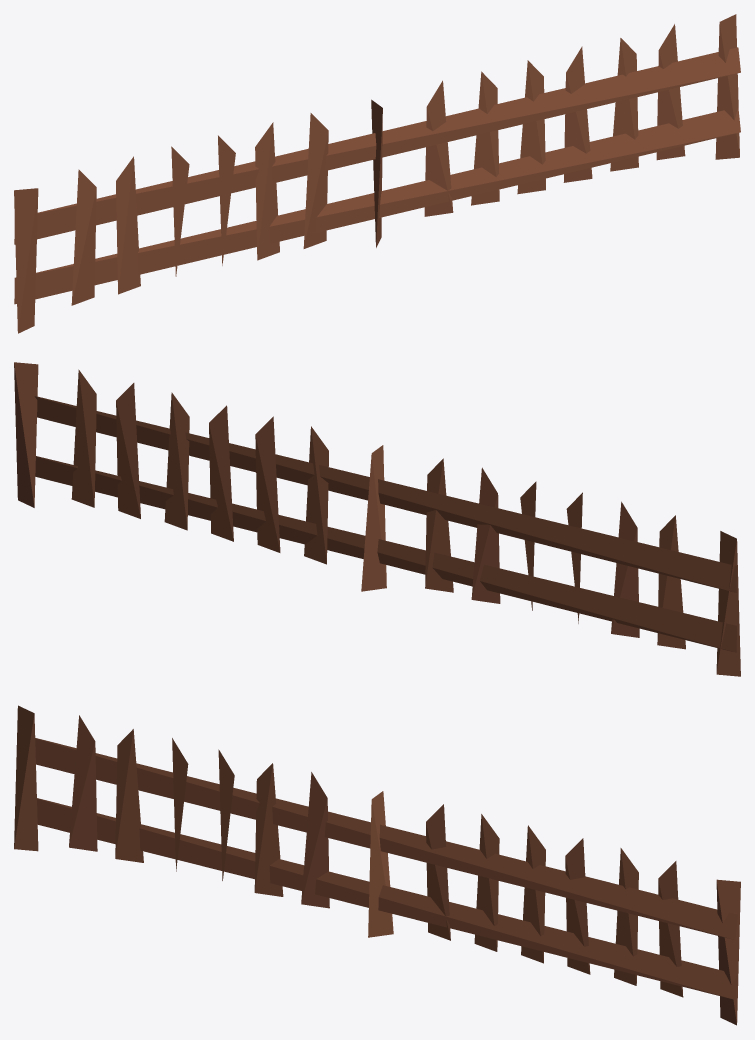
The model's file is Fence2.lod2.glb.
The picture shows the model from 3 angles, top to bottom: view 1: azimuth 30°, elevation 25°; view 2: azimuth 150°, elevation 25°; view 3: azimuth 330°, elevation 25°; orthographic projection.
Visible parts, largest first — view 1: Fence2; view 2: Fence2; view 3: Fence2.
Part boxes in pixels (x1,y1,x2,y2): Fence2: (14, 14, 740, 333); Fence2: (14, 362, 740, 676); Fence2: (14, 705, 740, 1025).
Bounding box in the file's own units: 5.89 × 1.15 × 0.1655.
